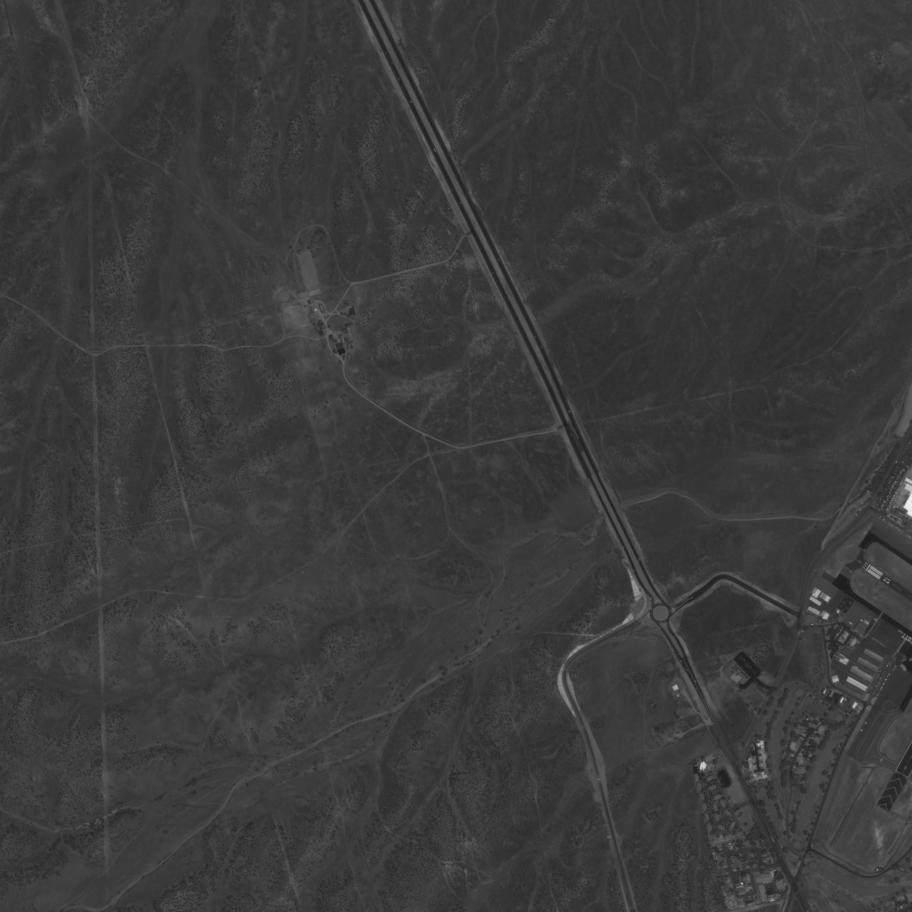plane: (857, 727, 863, 733), (863, 720, 868, 725)
